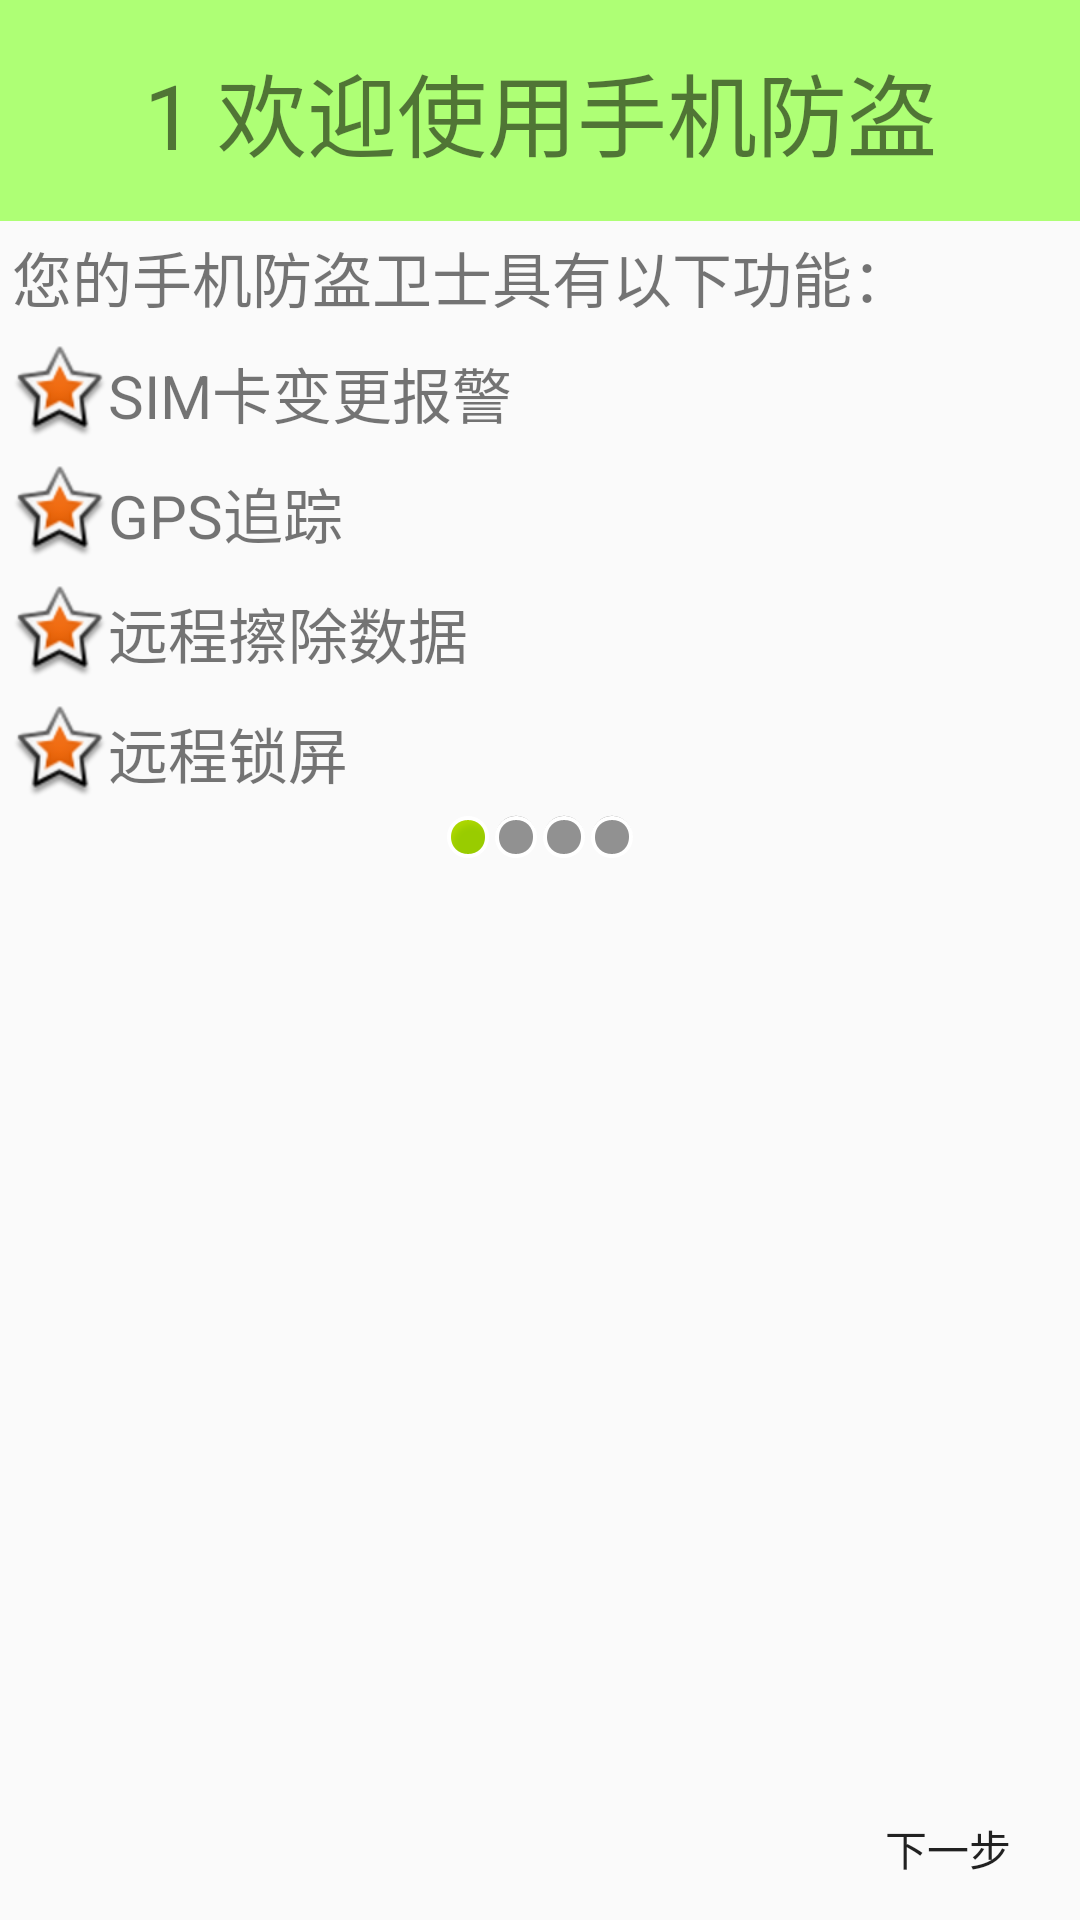

Named icons in this screenshot (1080px x 1920px) and their centers, [x,y]:
presence invisible: [516,835], [564,835], [612,835]
presence online: [468,837]
